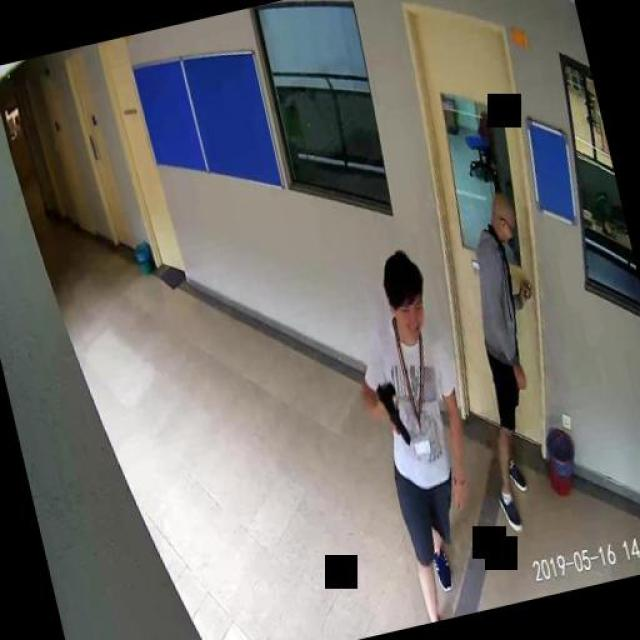gun: (374, 379, 410, 449)
